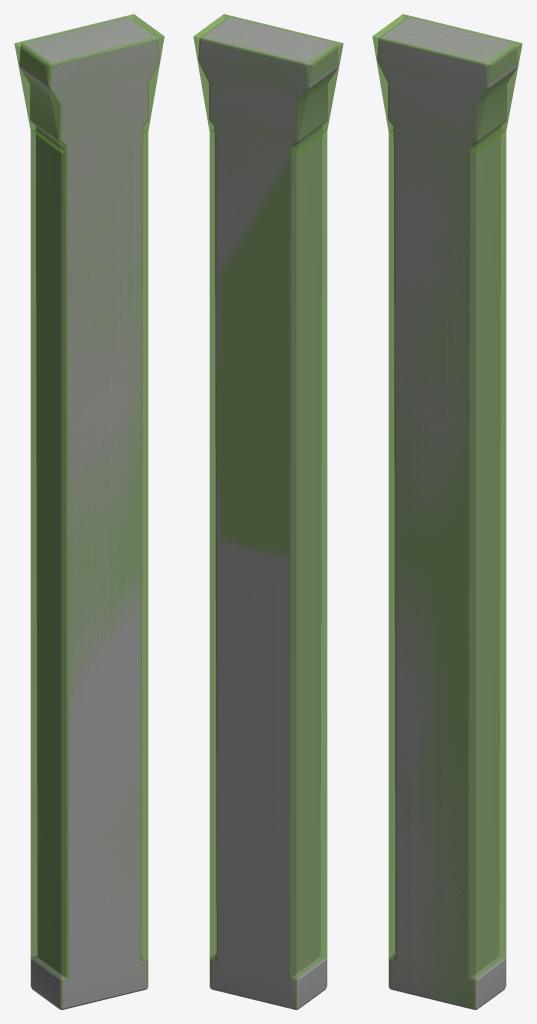
The model's file is M_md_StallWall_end_03_l.fbx.
3 views of the same model, side by side, from view 1: azimuth 30°, elevation 25°; view 2: azimuth 150°, elevation 25°; view 3: azimuth 330°, elevation 25° (orthographic).
Visible parts, largest first — view 1: M_md_StallWall_end_03_l, M_md_StallWall_end_03_l_col_02, M_md_StallWall_end_03_l_col_01; view 2: M_md_StallWall_end_03_l, M_md_StallWall_end_03_l_col_02, M_md_StallWall_end_03_l_col_01; view 3: M_md_StallWall_end_03_l, M_md_StallWall_end_03_l_col_02, M_md_StallWall_end_03_l_col_01.
Part boxes in pixels (<box>): M_md_StallWall_end_03_l: <box>19,17,159,1009</box>; M_md_StallWall_end_03_l_col_02: <box>30,129,148,1008</box>; M_md_StallWall_end_03_l_col_01: <box>14,14,164,152</box>; M_md_StallWall_end_03_l: <box>198,17,338,1009</box>; M_md_StallWall_end_03_l_col_02: <box>209,129,327,1008</box>; M_md_StallWall_end_03_l_col_01: <box>193,14,343,152</box>; M_md_StallWall_end_03_l: <box>377,17,517,1009</box>; M_md_StallWall_end_03_l_col_02: <box>388,129,506,1008</box>; M_md_StallWall_end_03_l_col_01: <box>372,14,522,152</box>.
Size of the model in its own units: 52.74 by 400 by 23.36.
